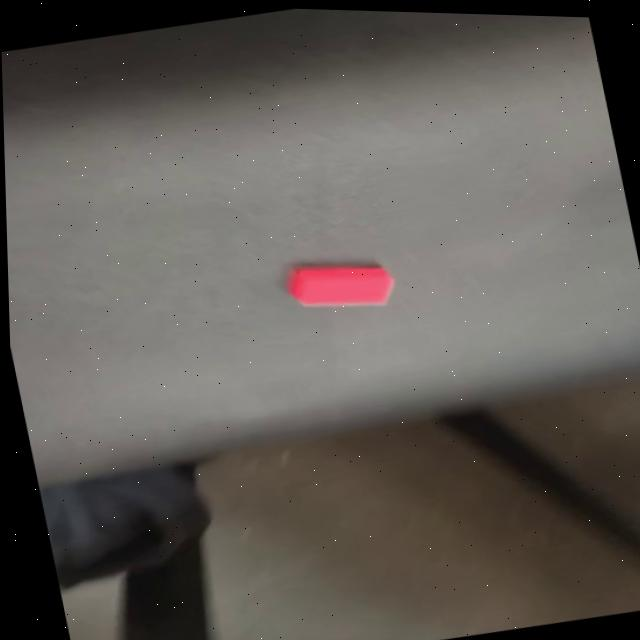red block: (281, 250, 400, 322)
